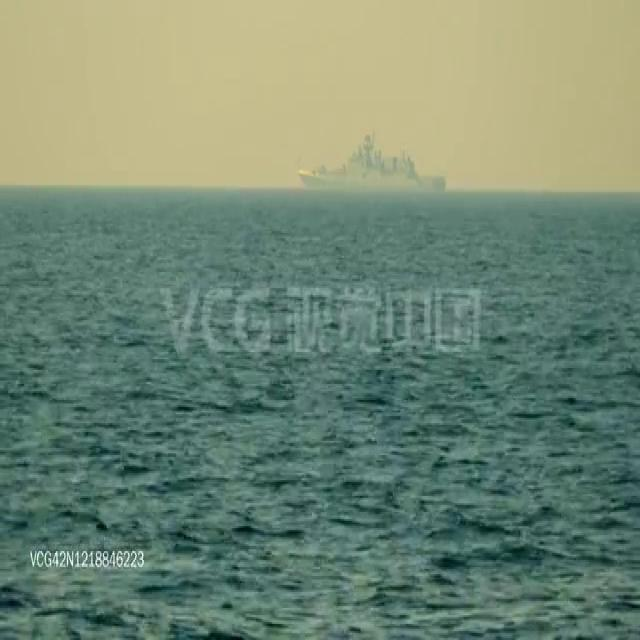navalvessels: (296, 127, 448, 198)
